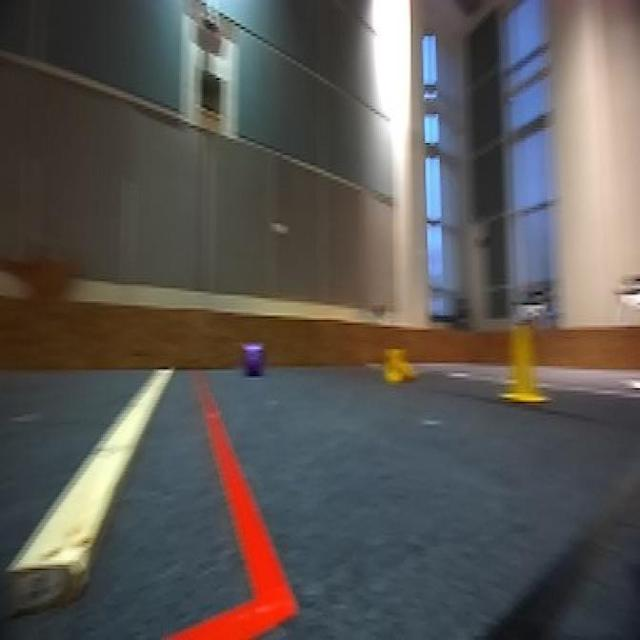frc_cone: (503, 316, 547, 408), (384, 346, 417, 383)
frc_cube: (242, 339, 265, 378)
